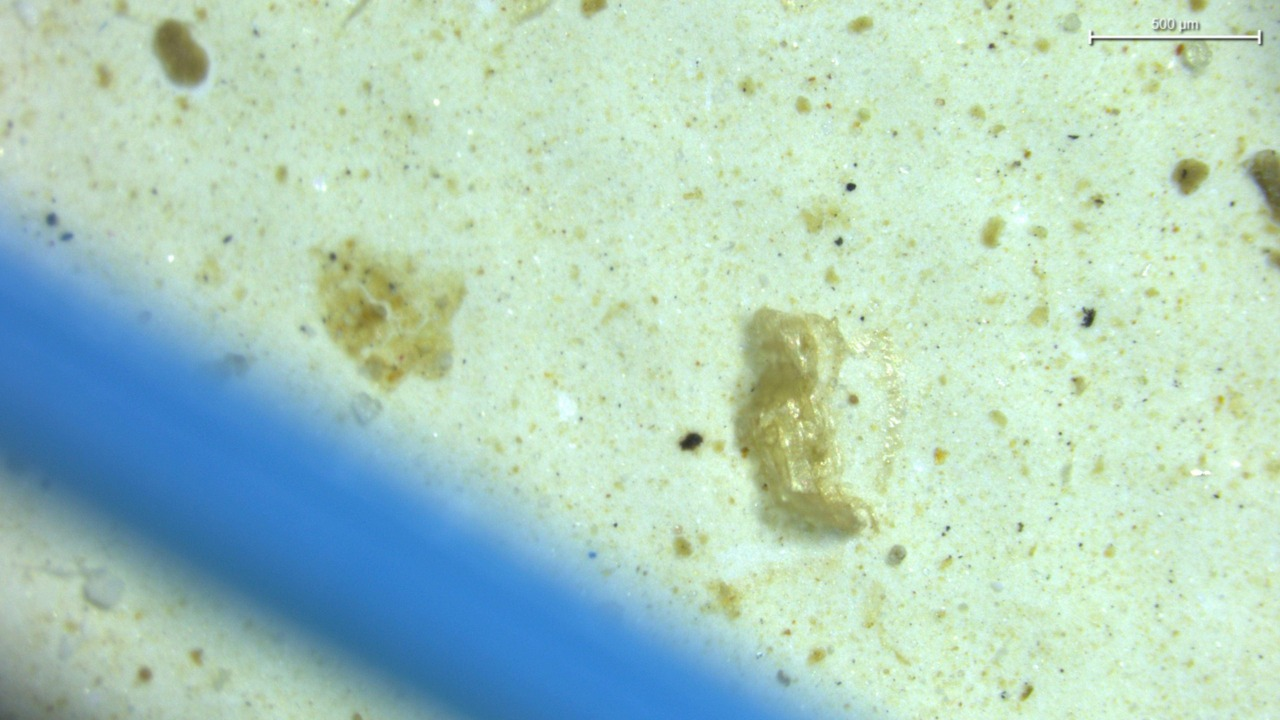microplastic_fragment: (735, 309, 897, 534)
